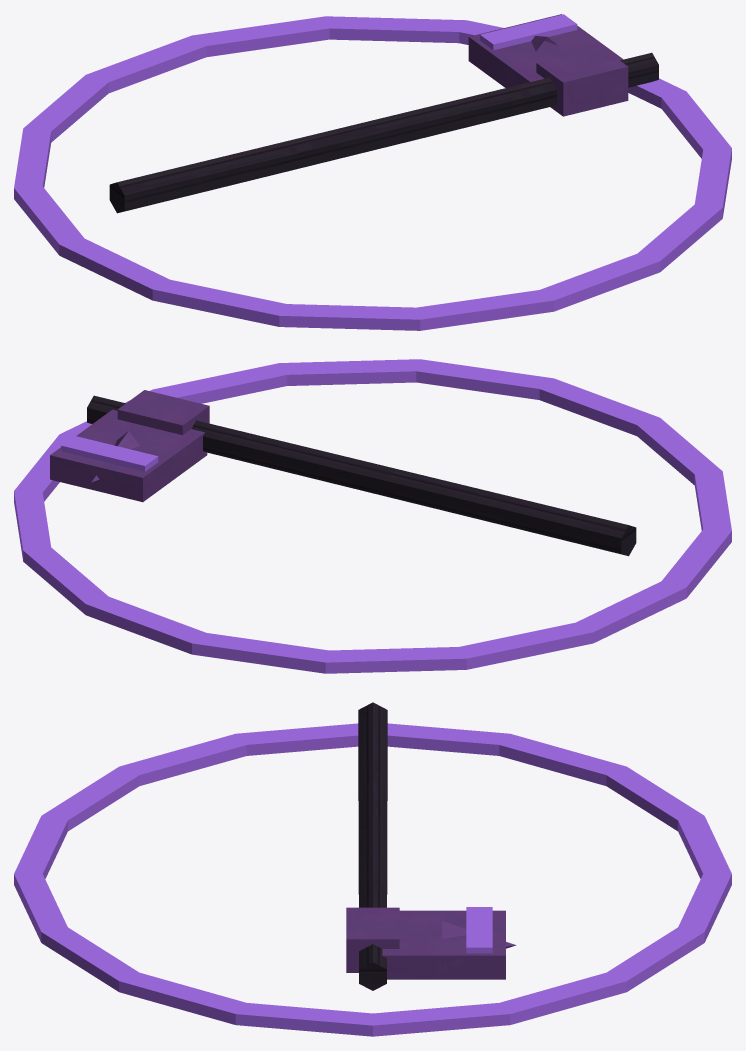
Rendered from loot_axe_g2.glb.
The picture shows the model from 3 angles, top to bottom: view 1: azimuth 30°, elevation 25°; view 2: azimuth 150°, elevation 25°; view 3: azimuth 270°, elevation 25°; orthographic projection.
Visible parts, largest first — view 1: loot_axe_g2; view 2: loot_axe_g2; view 3: loot_axe_g2.
Part boxes in pixels (x1,y1,x2,y2): loot_axe_g2: [14, 14, 731, 330]; loot_axe_g2: [14, 359, 731, 673]; loot_axe_g2: [14, 702, 731, 1036].
Size of the model in its own units: 1.35 by 0.1349 by 1.35.
3 materials, 2 textured.
